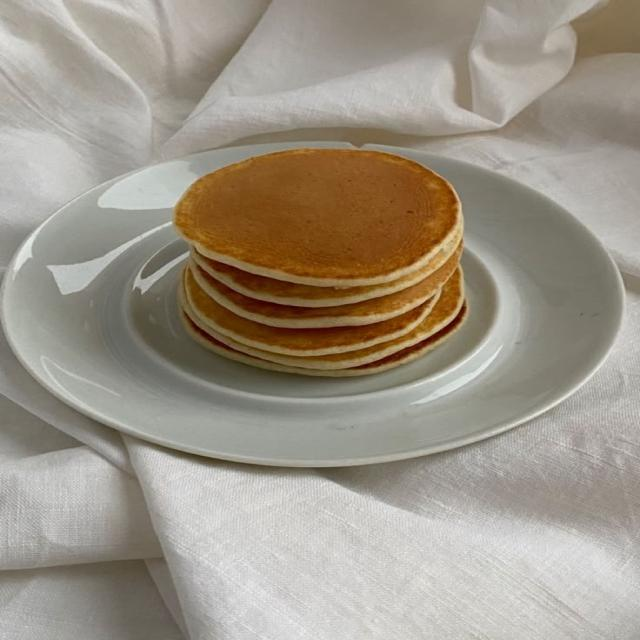pancake: (174, 149, 462, 286), (180, 271, 464, 369), (184, 267, 439, 355), (181, 304, 466, 377), (191, 230, 461, 307), (189, 252, 460, 328)
